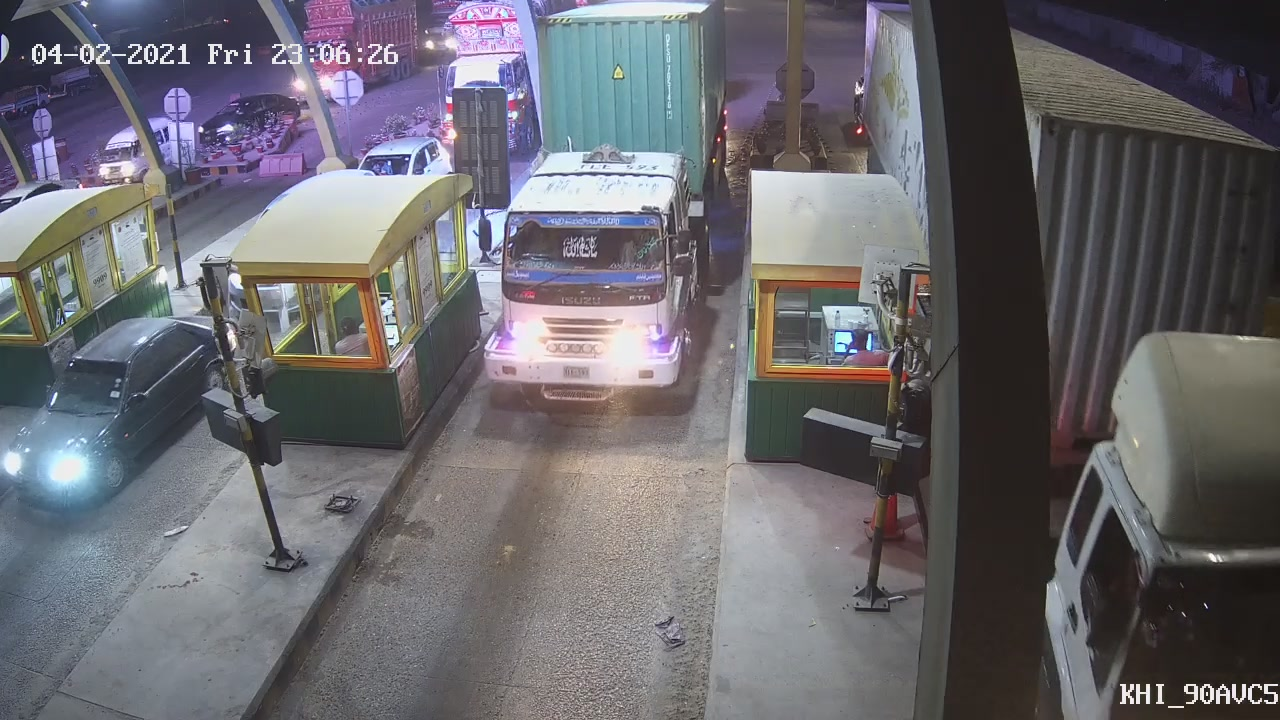F6: (468, 1, 731, 406)
